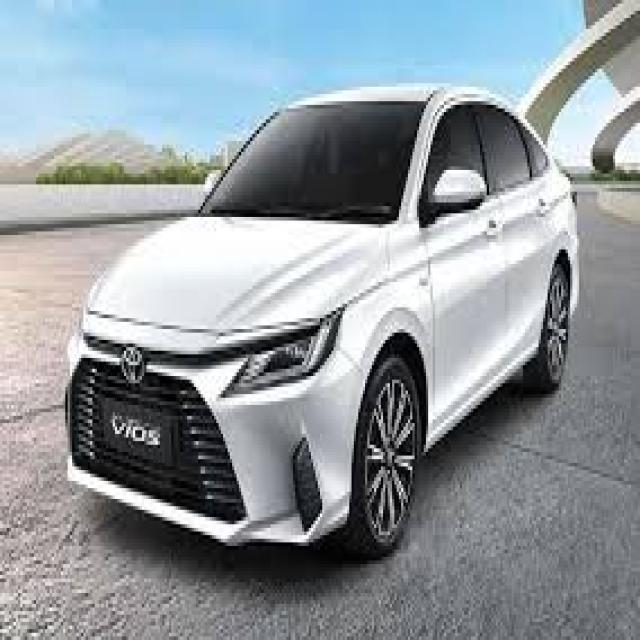ToyotaVios: (63, 80, 582, 560)
